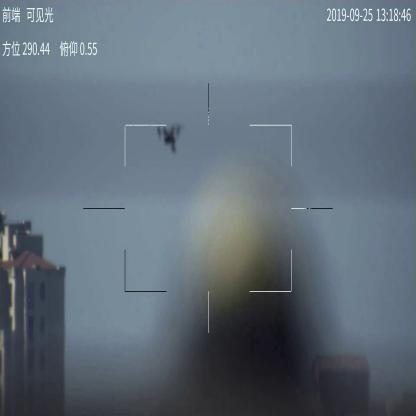uav: (158, 124, 184, 154)
